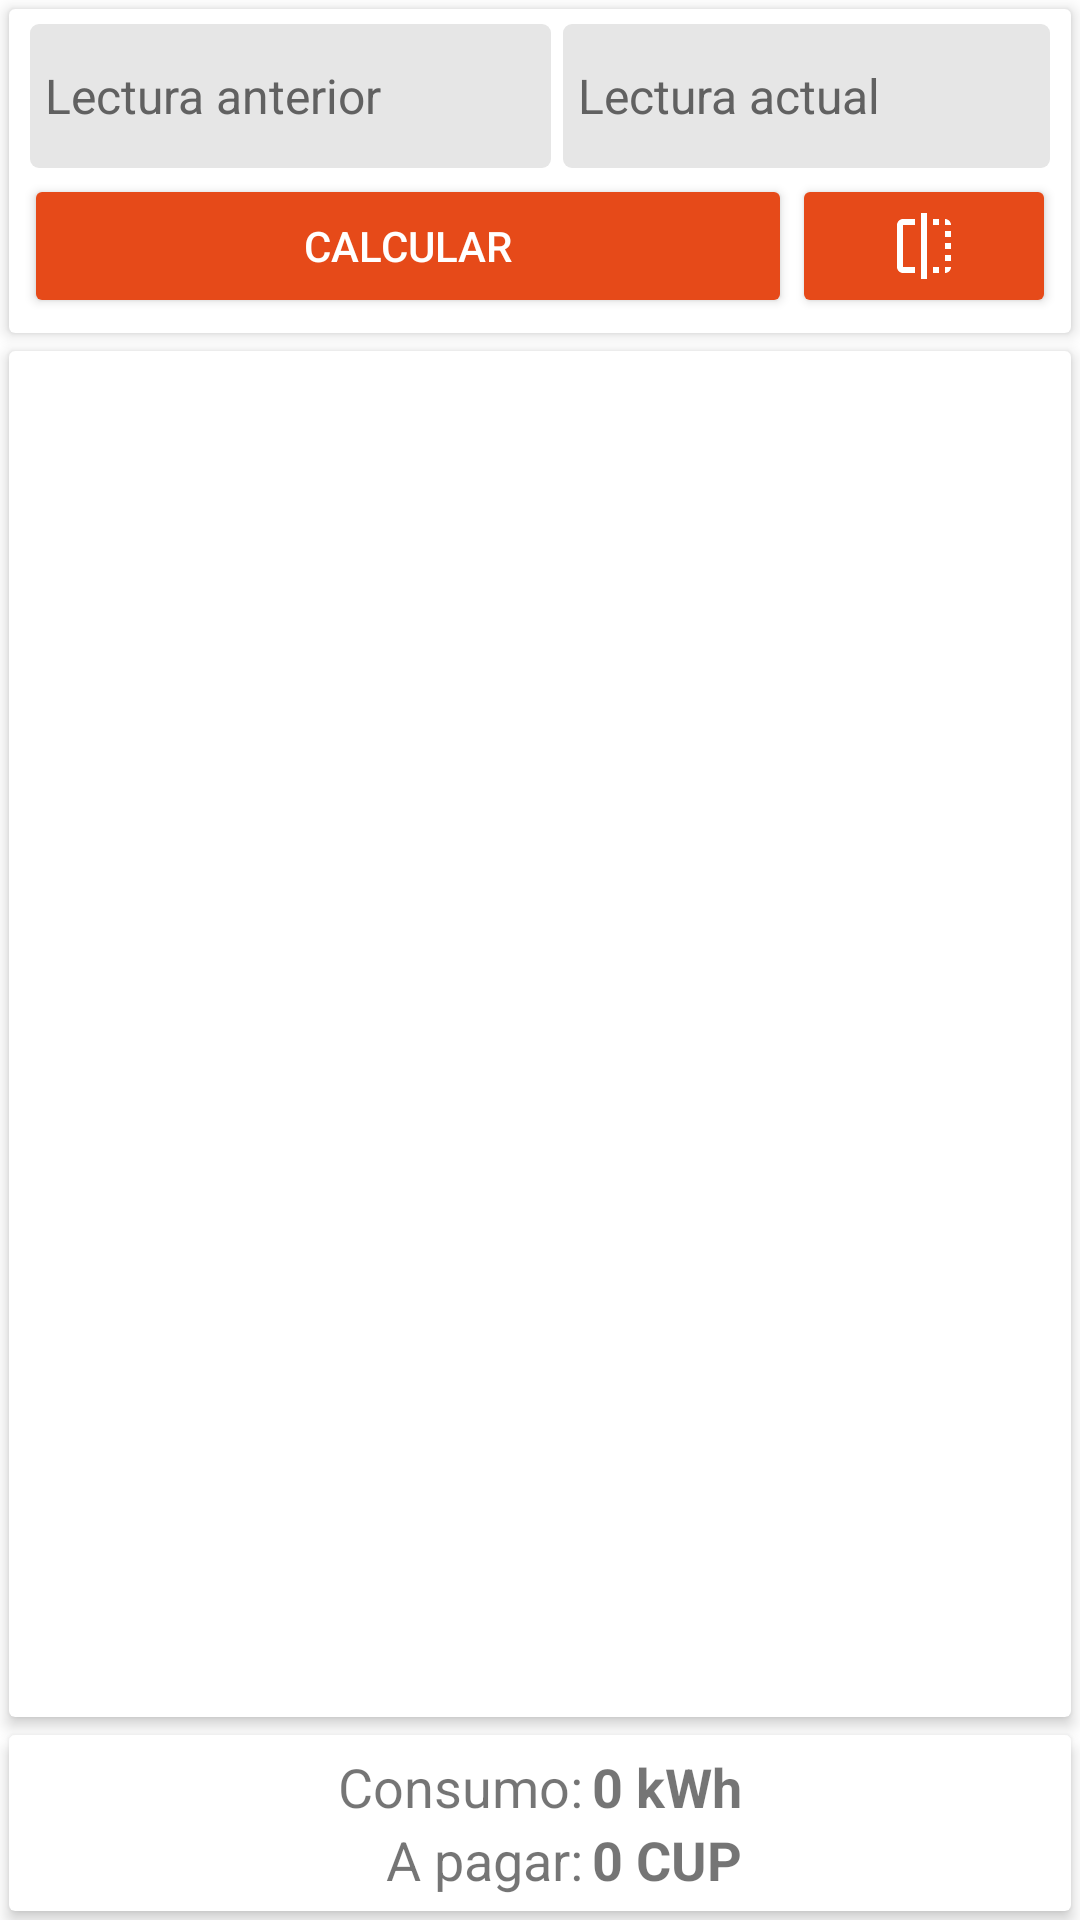

Icons on this 1080px×1920px Android screen, each with its box as [x1,y1,x2,y2]:
flip: [804,192,1045,301]
